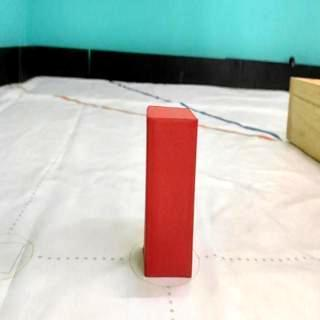redbox: (145, 104, 199, 278)
